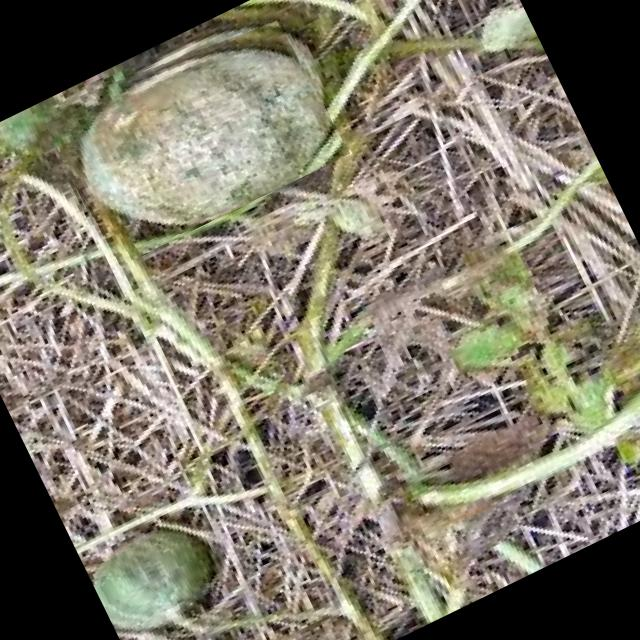Organic: (38, 0, 350, 266), (80, 513, 219, 640)
